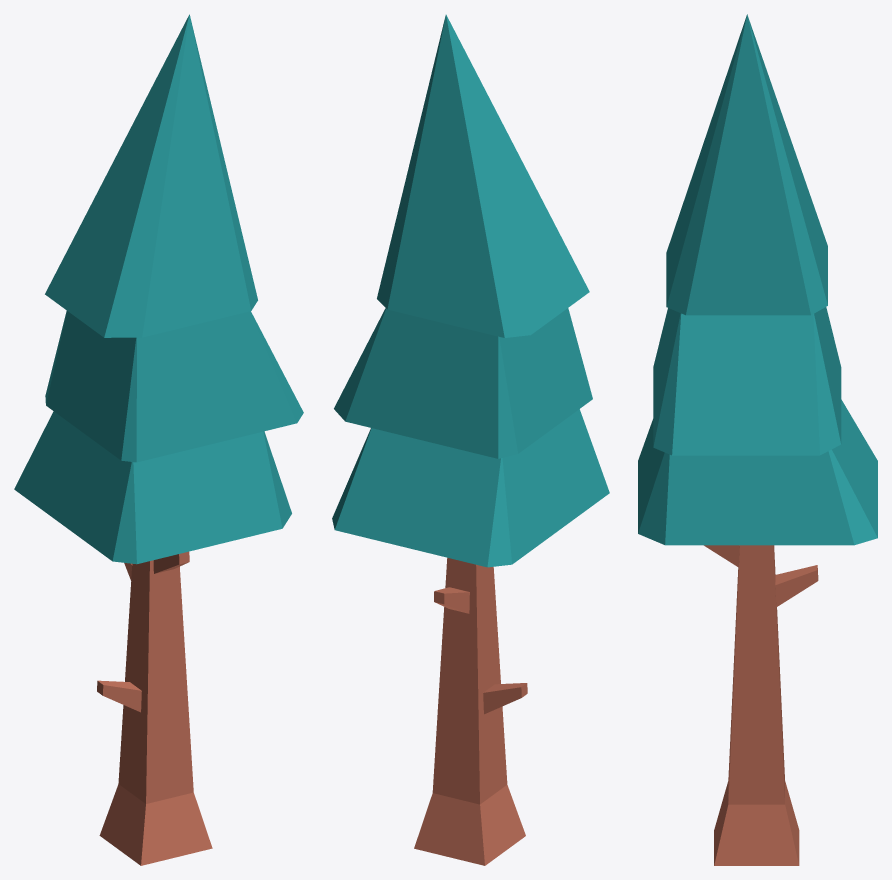
Rendered from tree_pineTallA_detailed.dae.
The picture shows the model from 3 angles, left to right: view 1: azimuth 30°, elevation 25°; view 2: azimuth 150°, elevation 25°; view 3: azimuth 270°, elevation 25°; orthographic projection. The views are drawn at different scales.
Parts seen in each view (by area): view 1: tree_pineTallA_detailed; view 2: tree_pineTallA_detailed; view 3: tree_pineTallA_detailed.
Part boxes in pixels (x1,y1,x2,y2): tree_pineTallA_detailed: [14, 14, 303, 865]; tree_pineTallA_detailed: [332, 14, 609, 865]; tree_pineTallA_detailed: [638, 14, 877, 865].
Size of the model in its own units: 0.3863 by 1.53 by 0.392.
